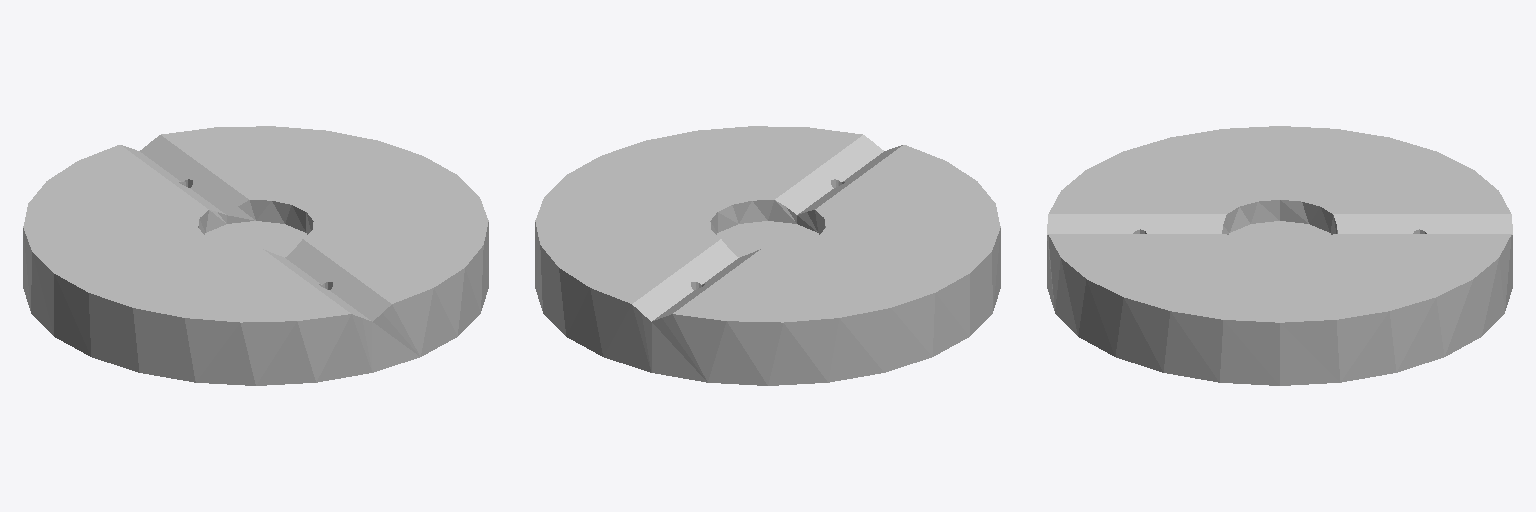
Rendered from external_retaining_ring_vgroove.obj.
3 views of the same model, side by side, from view 1: azimuth 30°, elevation 25°; view 2: azimuth 150°, elevation 25°; view 3: azimuth 270°, elevation 25° (orthographic).
Parts seen in each view (by area): view 1: 1; view 2: 1; view 3: 1.
Boxes of the visible parts, box(x1,y1,x2,y2) form: 1: box(23, 126, 488, 385); 1: box(535, 126, 1000, 385); 1: box(1047, 126, 1512, 385).
Bounding box in the file's own units: 100 × 15 × 100.